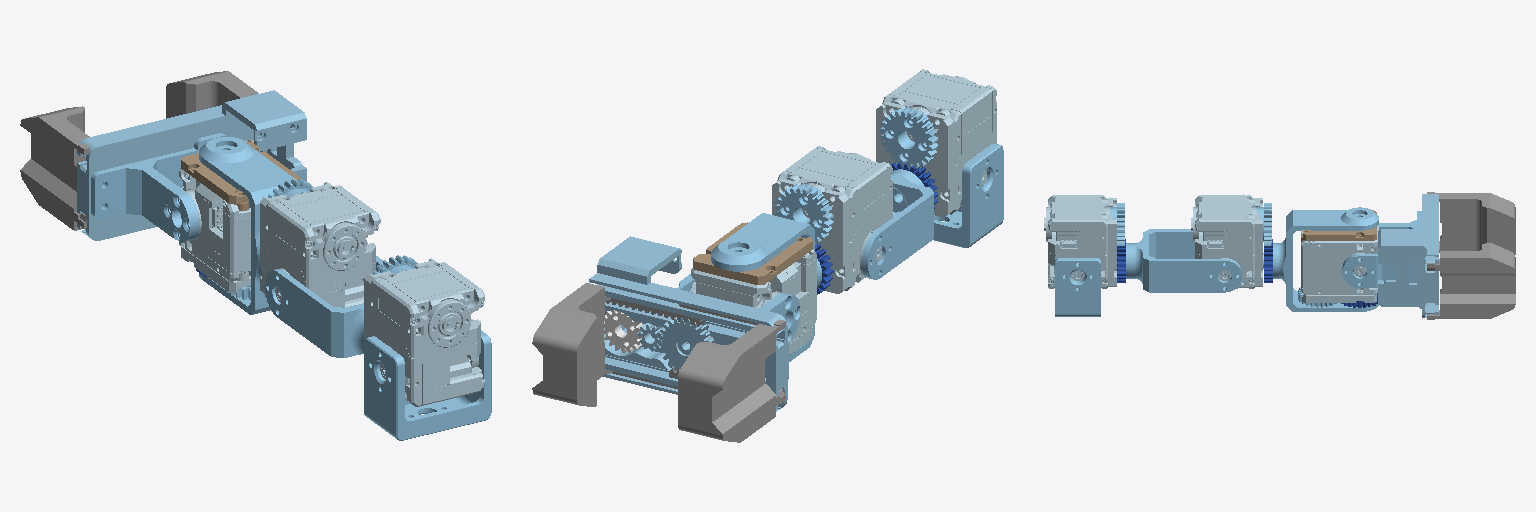
--- What the picture shows (computed from the rendered views, not written in the file) ---
3 views of the same robot in one strip: view 1: azimuth 30°, elevation 25°; view 2: azimuth 150°, elevation 25°; view 3: azimuth 270°, elevation 25° (orthographic).
Robot: right_arm_gripper — 19 links, 18 joints (10 revolute, 2 prismatic, 6 fixed); root link sho_pitch_link; default pose: every joint at zero.
Visible links, largest first — view 1: 2xl430_gears, 2xl430_gears_2, right_rail_guide, sho_pitch_link, gripper_connector, rail_2, 2xl430_gears_3, elb_yaw_link, sho_yaw_link, rail, wrist_bearing_plate; view 2: right_rail_guide, rail_2, 2xl430_gears_2, 2xl430_gears, rail, sho_yaw_link, sho_pitch_link, 2xl430_gears_3, elb_yaw_link, spur_1m_24t_drive, wrist_bearing_plate, spur_1m_24t_drive_2 (+2 smaller); view 3: rail, sho_yaw_link, 2xl430_gears_2, 2xl430_gears, right_rail_guide, rail_2, 2xl430_gears_3, elb_yaw_link, sho_pitch_link, gripper_connector, wrist_bearing_plate.
Boxes of the visible links, left/top/right/bottom form: 2xl430_gears: left=364, top=258, right=484, bottom=406; 2xl430_gears_2: left=260, top=182, right=380, bottom=307; right_rail_guide: left=77, top=90, right=306, bottom=240; sho_pitch_link: left=364, top=330, right=491, bottom=440; gripper_connector: left=91, top=133, right=226, bottom=242; rail_2: left=20, top=106, right=89, bottom=230; 2xl430_gears_3: left=179, top=168, right=250, bottom=293; elb_yaw_link: left=199, top=137, right=294, bottom=314; sho_yaw_link: left=265, top=256, right=383, bottom=357; rail: left=166, top=71, right=258, bottom=118; wrist_bearing_plate: left=181, top=142, right=300, bottom=210; right_rail_guide: left=589, top=236, right=787, bottom=411; rail_2: left=669, top=304, right=785, bottom=442; 2xl430_gears_2: left=772, top=146, right=892, bottom=293; 2xl430_gears: left=876, top=69, right=996, bottom=217; rail: left=532, top=283, right=704, bottom=406; sho_yaw_link: left=862, top=169, right=933, bottom=279; sho_pitch_link: left=933, top=143, right=1003, bottom=247; 2xl430_gears_3: left=690, top=249, right=816, bottom=354; elb_yaw_link: left=711, top=213, right=821, bottom=361; spur_1m_24t_drive: left=880, top=107, right=937, bottom=168; wrist_bearing_plate: left=693, top=222, right=812, bottom=284; spur_1m_24t_drive_2: left=775, top=184, right=833, bottom=242; rail: left=1427, top=243, right=1515, bottom=319; sho_yaw_link: left=1126, top=229, right=1241, bottom=292; 2xl430_gears_2: left=1191, top=195, right=1263, bottom=288; 2xl430_gears: left=1044, top=195, right=1116, bottom=288; right_rail_guide: left=1378, top=194, right=1438, bottom=317; rail_2: left=1427, top=192, right=1515, bottom=254; 2xl430_gears_3: left=1301, top=225, right=1378, bottom=302; elb_yaw_link: left=1273, top=207, right=1378, bottom=311; sho_pitch_link: left=1055, top=258, right=1100, bottom=316; gripper_connector: left=1342, top=211, right=1421, bottom=287; wrist_bearing_plate: left=1301, top=210, right=1376, bottom=241.
Bounding box of the posed robot: 0.0917 × 0.2811 × 0.0652 m (x, y, z).
18 mesh visuals loaded from 19 distinct referenced files (18 binary STL); not drawn: 1 (reference not matched to a file when rendering).

URDF robot description (right_arm_gripper):
<?xml version="1.0" ?><robot name="right_arm_gripper">  
  <link name="sho_pitch_link">    
    <visual>      
      <origin xyz="0 0 0" rpy="0 -0 0"/>      
      <geometry>        
        <mesh filename="package:///meshes/right_sho_pitch_link_visual.stl"/>        
      </geometry>      
      <material name="sho_pitch_link_material">        
        <color rgba="0.61568627450980395466 0.81176470588235294379 0.92941176470588227065 1.0"/>        
      </material>      
    </visual>    
    <collision>      
      <origin xyz="0 0 0" rpy="0 -0 0"/>      
      <geometry>        
        <mesh filename="package:///meshes/right_sho_pitch_link_collision.stl"/>        
      </geometry>      
    </collision>    
    <inertial>      
      <origin xyz="1.8449019812287260885e-18 -2.0802238039556934046e-18 0.012913250798677599132" rpy="0 0 0"/>      
      <mass value="0.0085999999999999982708"/>      
      <inertia ixx="1.8365636406635822849e-06" ixy="-6.8542962956938853498e-57" ixz="1.6528758011273076664e-97" iyy="4.0110869076839152165e-06" iyz="-2.646223959247617687e-46" izz="3.5160516450492493809e-06"/>      
    </inertial>    
  </link>  

  <link name="2xl430_gears">    
    <visual>      
      <origin xyz="0 0 0" rpy="0 -0 0"/>      
      <geometry>        
        <mesh filename="package:///meshes/right_2xl430_gears_visual.stl"/>        
      </geometry>      
      <material name="2xl430_gears_material">        
        <color rgba="0.7591476792056923717 0.85560384745670914342 0.90519468321360618823 1.0"/>        
      </material>      
    </visual>    
    <collision>      
      <origin xyz="0 0 0" rpy="0 -0 0"/>      
      <geometry>        
        <mesh filename="package:///meshes/right_2xl430_gears_collision.stl"/>        
      </geometry>      
    </collision>    
    <inertial>      
      <origin xyz="-0.01159290573797803689 -0.0024238553642550869638 -0.018551095523802667991" rpy="0 0 0"/>      
      <mass value="0.11800003674524908726"/>      
      <inertia ixx="2.7511021050424503716e-05" ixy="9.0043904315214347989e-07" ixz="-2.3349710124170355681e-08" iyy="3.2796197843345875145e-05" iyz="-6.5715119654636793758e-07" izz="3.5775739835741188688e-05"/>      
    </inertial>    
  </link>  

  <link name="spur_1m_24t_drive">    
    <visual>      
      <origin xyz="0 0 0" rpy="0 -0 0"/>      
      <geometry>        
        <mesh filename="package:///meshes/right_spur_1m_24t_drive_visual.stl"/>        
      </geometry>      
      <material name="spur_1m_24t_drive_material">        
        <color rgba="0.61568627450980406568 0.81176470588235294379 0.92941176470588238168 1.0"/>        
      </material>      
    </visual>    
    <collision>      
      <origin xyz="0 0 0" rpy="0 -0 0"/>      
      <geometry>        
        <mesh filename="package:///meshes/right_spur_1m_24t_drive_collision.stl"/>        
      </geometry>      
    </collision>    
    <inertial>      
      <origin xyz="3.0326539266682484979e-15 -3.3909557262182693158e-16 0.0048096451474092995898" rpy="0 0 0"/>      
      <mass value="0.0032000000000000001533"/>      
      <inertia ixx="1.4097598887016956026e-07" ixy="1.556282310200251252e-15" ixz="-1.8992294521396918766e-37" iyy="1.4097598803636001492e-07" iyz="-4.7745011531954772327e-37" izz="2.4107776386988835496e-07"/>      
    </inertial>    
  </link>  

  <joint name="right_sho_yaw_drive" type="revolute">    
    <origin xyz="-0.024000000716137347839 -0.019000000152448161261 -0.019000000152444761203" rpy="1.5707963267947397945 -3.199580565278813612e-14 1.8339090108977180652e-14"/>    
    <parent link="2xl430_gears"/>    
    <child link="spur_1m_24t_drive"/>    
    <axis xyz="0 0 1"/>    
    <limit effort="1" velocity="20" lower="-2.6179938779914944114" upper="2.6179938779914944114"/>    
    <joint_properties friction="0.0"/>    
  </joint>  

  <link name="spur_1m_24t_driven">    
    <visual>      
      <origin xyz="0 0 0" rpy="0 -0 0"/>      
      <geometry>        
        <mesh filename="package:///meshes/right_spur_1m_24t_driven_visual.stl"/>        
      </geometry>      
      <material name="spur_1m_24t_driven_material">        
        <color rgba="0.23137254901960788156 0.38039215686274502337 0.7058823529411765163 1.0"/>        
      </material>      
    </visual>    
    <collision>      
      <origin xyz="0 0 0" rpy="0 -0 0"/>      
      <geometry>        
        <mesh filename="package:///meshes/right_spur_1m_24t_driven_collision.stl"/>        
      </geometry>      
    </collision>    
    <inertial>      
      <origin xyz="-2.921394639790185015e-18 -1.6886349105605202767e-15 -0.00097237500038396460205" rpy="0 0 0"/>      
      <mass value="0.0026999999999999997093"/>      
      <inertia ixx="1.2202334915684083145e-07" ixy="-2.0003916890172096188e-37" ixz="1.9017102850262393928e-37" iyy="1.2202334915684064616e-07" iyz="-9.770592987438706564e-37" izz="2.3180293204341257533e-07"/>      
    </inertial>    
  </link>  

  <link name="sho_yaw_link">    
    <visual>      
      <origin xyz="0 0 0" rpy="0 -0 0"/>      
      <geometry>        
        <mesh filename="package:///meshes/right_sho_yaw_link_visual.stl"/>        
      </geometry>      
      <material name="sho_yaw_link_material">        
        <color rgba="0.61568627450980395466 0.81176470588235294379 0.92941176470588238168 1.0"/>        
      </material>      
    </visual>    
    <collision>      
      <origin xyz="0 0 0" rpy="0 -0 0"/>      
      <geometry>        
        <mesh filename="package:///meshes/right_sho_yaw_link_collision.stl"/>        
      </geometry>      
    </collision>    
    <inertial>      
      <origin xyz="4.5036404713680668847e-18 2.8819643225832177286e-18 -0.024649285094360068316" rpy="0 0 0"/>      
      <mass value="0.014500000000000004205"/>      
      <inertia ixx="9.2365904614004439553e-06" ixy="3.5862833440690446869e-13" ixz="3.8159565285815172758e-35" iyy="5.8163826335078791714e-06" iyz="-1.0924832696280288326e-35" izz="4.5074356741562113561e-06"/>      
    </inertial>    
  </link>  

  <link name="2xl430_gears_2">    
    <visual>      
      <origin xyz="0 0 0" rpy="0 -0 0"/>      
      <geometry>        
        <mesh filename="package:///meshes/right_2xl430_gears_2_visual.stl"/>        
      </geometry>      
      <material name="2xl430_gears_2_material">        
        <color rgba="0.7591476792056923717 0.85560384745670914342 0.90519468321360618823 1.0"/>        
      </material>      
    </visual>    
    <collision>      
      <origin xyz="0 0 0" rpy="0 -0 0"/>      
      <geometry>        
        <mesh filename="package:///meshes/right_2xl430_gears_2_collision.stl"/>        
      </geometry>      
    </collision>    
    <inertial>      
      <origin xyz="-0.011592905737986073864 -0.0024238553642542347809 -0.018551095523808777688" rpy="0 0 0"/>      
      <mass value="0.11800003674524908726"/>      
      <inertia ixx="2.7511021050428857465e-05" ixy="9.0043904315091549388e-07" ixz="-2.3349710123664839139e-08" iyy="3.2796197843347636974e-05" iyz="-6.5715119654794606584e-07" izz="3.5775739835744908856e-05"/>      
    </inertial>    
  </link>  

  <link name="spur_1m_24t_drive_2">    
    <visual>      
      <origin xyz="0 0 0" rpy="0 -0 0"/>      
      <geometry>        
        <mesh filename="package:///meshes/right_spur_1m_24t_drive_2_visual.stl"/>        
      </geometry>      
      <material name="spur_1m_24t_drive_2_material">        
        <color rgba="0.61568627450980406568 0.81176470588235294379 0.92941176470588238168 1.0"/>        
      </material>      
    </visual>    
    <collision>      
      <origin xyz="0 0 0" rpy="0 -0 0"/>      
      <geometry>        
        <mesh filename="package:///meshes/right_spur_1m_24t_drive_2_collision.stl"/>        
      </geometry>      
    </collision>    
    <inertial>      
      <origin xyz="3.0395928205721565152e-15 -3.3909557262182688227e-16 0.0048096451474092995898" rpy="0 0 0"/>      
      <mass value="0.0032000000000000001533"/>      
      <inertia ixx="1.4097598887016963967e-07" ixy="1.5562823101719447534e-15" ixz="-1.8419223123432015677e-37" iyy="1.4097598803636001492e-07" iyz="-3.0576269564019315824e-36" izz="2.4107776386988835496e-07"/>      
    </inertial>    
  </link>  

  <joint name="right_elbow_yaw_drive" type="revolute">    
    <origin xyz="-0.024000000716148717217 -0.019000000152453275226 -0.01900000015245205745" rpy="1.5707963267949269781 1.6254659840047312022e-13 -8.5511976043092269184e-14"/>    
    <parent link="2xl430_gears_2"/>    
    <child link="spur_1m_24t_drive_2"/>    
    <axis xyz="0 0 1"/>    
    <limit effort="1" velocity="20" lower="-2.6179938779914944114" upper="2.6179938779914944114"/>    
    <joint_properties friction="0.0"/>    
  </joint>  

  <link name="spur_1m_24t_driven_2">    
    <visual>      
      <origin xyz="0 0 0" rpy="0 -0 0"/>      
      <geometry>        
        <mesh filename="package:///meshes/right_spur_1m_24t_driven_2_visual.stl"/>        
      </geometry>      
      <material name="spur_1m_24t_driven_2_material">        
        <color rgba="0.23137254901960788156 0.38039215686274502337 0.7058823529411765163 1.0"/>        
      </material>      
    </visual>    
    <collision>      
      <origin xyz="0 0 0" rpy="0 -0 0"/>      
      <geometry>        
        <mesh filename="package:///meshes/right_spur_1m_24t_driven_2_collision.stl"/>        
      </geometry>      
    </collision>    
    <inertial>      
      <origin xyz="-2.9213946397908421423e-18 -1.6886349105605210655e-15 -0.00097237500038396460205" rpy="0 0 0"/>      
      <mass value="0.0026999999999999997093"/>      
      <inertia ixx="1.2202334915684083145e-07" ixy="8.1931871200334274295e-66" ixz="-5.8515286657488374315e-36" iyy="1.2202334915684064616e-07" iyz="-7.8749785833428115979e-37" izz="2.3180293204341268121e-07"/>      
    </inertial>    
  </link>  

  <link name="elb_yaw_link">    
    <visual>      
      <origin xyz="0 0 0" rpy="0 -0 0"/>      
      <geometry>        
        <mesh filename="package:///meshes/right_elb_yaw_link_visual.stl"/>        
      </geometry>      
      <material name="elb_yaw_link_material">        
        <color rgba="0.61568627450980395466 0.81176470588235294379 0.92941176470588227065 1.0"/>        
      </material>      
    </visual>    
    <collision>      
      <origin xyz="0 0 0" rpy="0 -0 0"/>      
      <geometry>        
        <mesh filename="package:///meshes/right_elb_yaw_link_collision.stl"/>        
      </geometry>      
    </collision>    
    <inertial>      
      <origin xyz="5.3127688027189133061e-08 0.0019833638641961665906 -0.023416643551549935071" rpy="0 0 0"/>      
      <mass value="0.017500000000000001665"/>      
      <inertia ixx="1.4134344903109196387e-05" ixy="1.6945783921929356084e-12" ixz="-1.1286398721892709078e-11" iyy="6.6435900776211340404e-06" iyz="1.0545227077253057579e-06" izz="8.9925290757998976773e-06"/>      
    </inertial>    
  </link>  

  <link name="spur_1m_24t_driven_3">    
    <visual>      
      <origin xyz="0 0 0" rpy="0 -0 0"/>      
      <geometry>        
        <mesh filename="package:///meshes/right_spur_1m_24t_driven_3_visual.stl"/>        
      </geometry>      
      <material name="spur_1m_24t_driven_3_material">        
        <color rgba="0.23137254901960788156 0.38039215686274502337 0.7058823529411765163 1.0"/>        
      </material>      
    </visual>    
    <collision>      
      <origin xyz="0 0 0" rpy="0 -0 0"/>      
      <geometry>        
        <mesh filename="package:///meshes/right_spur_1m_24t_driven_3_collision.stl"/>        
      </geometry>      
    </collision>    
    <inertial>      
      <origin xyz="-2.9213946397905324528e-18 -1.6886349105605188962e-15 -0.0025723750003839584988" rpy="0 0 0"/>      
      <mass value="0.0026999999999999997093"/>      
      <inertia ixx="1.2202334915684088439e-07" ixy="1.7934156310550399505e-36" ixz="-4.3202421904481218274e-36" iyy="1.2202334915684064616e-07" iyz="-9.0295837999359508427e-37" izz="2.3180293204341257533e-07"/>      
    </inertial>    
  </link>  

  <link name="2xl430_gears_3">    
    <visual>      
      <origin xyz="0 0 0" rpy="0 -0 0"/>      
      <geometry>        
        <mesh filename="package:///meshes/right_2xl430_gears_3_visual.stl"/>        
      </geometry>      
      <material name="2xl430_gears_3_material">        
        <color rgba="0.7591476792056923717 0.85560384745670914342 0.90519468321360618823 1.0"/>        
      </material>      
    </visual>    
    <collision>      
      <origin xyz="0 0 0" rpy="0 -0 0"/>      
      <geometry>        
        <mesh filename="package:///meshes/right_2xl430_gears_3_collision.stl"/>        
      </geometry>      
    </collision>    
    <inertial>      
      <origin xyz="0.00044890447619846317274 0.011592905379916402728 -0.024576144788201300523" rpy="0 0 0"/>      
      <mass value="0.11800003674524908726"/>      
      <inertia ixx="3.5775739835743350316e-05" ixy="2.334971012439249338e-08" ixz="6.5715119654781382282e-07" iyy="2.7511021050426370577e-05" iyz="9.004390431514573832e-07" izz="3.279619784334753533e-05"/>      
    </inertial>    
  </link>  

  <link name="spur_1m_24t_drive_3">    
    <visual>      
      <origin xyz="0 0 0" rpy="0 -0 0"/>      
      <geometry>        
        <mesh filename="package:///meshes/right_spur_1m_24t_drive_3_visual.stl"/>        
      </geometry>      
      <material name="spur_1m_24t_drive_3_material">        
        <color rgba="0.61568627450980406568 0.81176470588235294379 0.92941176470588238168 1.0"/>        
      </material>      
    </visual>    
    <collision>      
      <origin xyz="0 0 0" rpy="0 -0 0"/>      
      <geometry>        
        <mesh filename="package:///meshes/right_spur_1m_24t_drive_3_collision.stl"/>        
      </geometry>      
    </collision>    
    <inertial>      
      <origin xyz="3.0326539266682488924e-15 -3.3909557259597738952e-16 0.0048096451474093021919" rpy="0 0 0"/>      
      <mass value="0.0032000000000000001533"/>      
      <inertia ixx="1.409759888701696132e-07" ixy="1.556282310200251252e-15" ixz="-1.0651936719748417848e-37" iyy="1.4097598803636001492e-07" iyz="-6.7795798897996087278e-37" izz="2.4107776386988846083e-07"/>      
    </inertial>    
  </link>  

  <joint name="right_wrist_pitch_drive" type="revolute">    
    <origin xyz="-1.5244632210886674996e-10 0.024000000358075396223 -0.0080000000000023368391" rpy="1.8404832493348406963e-14 1.1899813043699589138e-13 -1.5707963267947944175"/>    
    <parent link="2xl430_gears_3"/>    
    <child link="spur_1m_24t_drive_3"/>    
    <axis xyz="0 0 1"/>    
    <limit effort="1" velocity="20" lower="-1.3962634015954635824" upper="1.9198621771937625091"/>    
    <joint_properties friction="0.0"/>    
  </joint>  

  <link name="gripper_connector">    
    <visual>      
      <origin xyz="0 0 0" rpy="0 -0 0"/>      
      <geometry>        
        <mesh filename="package:///meshes/right_gripper_connector_visual.stl"/>        
      </geometry>      
      <material name="gripper_connector_material">        
        <color rgba="0.61568627450980395466 0.81176470588235294379 0.92941176470588238168 1.0"/>        
      </material>      
    </visual>    
    <collision>      
      <origin xyz="0 0 0" rpy="0 -0 0"/>      
      <geometry>        
        <mesh filename="package:///meshes/right_gripper_connector_collision.stl"/>        
      </geometry>      
    </collision>    
    <inertial>      
      <origin xyz="-0.00018842170188954562057 0.022508162473387258173 -0.027103952522535709746" rpy="0 0 0"/>      
      <mass value="0.0099999999999999967387"/>      
      <inertia ixx="5.9456375734536726584e-06" ixy="2.4479055491886681531e-08" ixz="4.0329437936864279052e-08" iyy="4.2603724874314054683e-06" iyz="4.585261274976229064e-07" izz="2.4669632528047159756e-06"/>      
    </inertial>    
  </link>  

  <link name="right_rail_guide">    
    <visual>      
      <origin xyz="0 0 0" rpy="0 -0 0"/>      
      <geometry>        
        <mesh filename="package:///meshes/right_rail_guide_visual.stl"/>        
      </geometry>      
      <material name="right_rail_guide_material">        
        <color rgba="0.63183631947442864263 0.80464761899488657093 0.89969354135356638391 1.0"/>        
      </material>      
    </visual>    
    <collision>      
      <origin xyz="0 0 0" rpy="0 -0 0"/>      
      <geometry>        
        <mesh filename="package:///meshes/right_rail_guide_collision.stl"/>        
      </geometry>      
    </collision>    
    <inertial>      
      <origin xyz="0.010819769137967562636 -0.0021113011985218615996 -7.7620928513509046e-05" rpy="0 0 0"/>      
      <mass value="0.031084136786219594695"/>      
      <inertia ixx="7.8430666236070228507e-06" ixy="-2.0644517679574144074e-06" ixz="4.0045882799668568733e-06" iyy="2.7294704119451736191e-05" iyz="8.8949075530050562942e-07" izz="3.0492488744516627947e-05"/>      
    </inertial>    
  </link>  

  <link name="rail">    
    <visual>      
      <origin xyz="0 0 0" rpy="0 -0 0"/>      
      <geometry>        
        <mesh filename="package:///meshes/right_rail_visual.stl"/>        
      </geometry>      
      <material name="rail_material">        
        <color rgba="0.64705882352941179736 0.64705882352941179736 0.64705882352941179736 1.0"/>        
      </material>      
    </visual>    
    <collision>      
      <origin xyz="0 0 0" rpy="0 -0 0"/>      
      <geometry>        
        <mesh filename="package:///meshes/right_rail_collision.stl"/>        
      </geometry>      
    </collision>    
    <inertial>      
      <origin xyz="0.029554714214719168819 -0.015933051259988690457 -0.010638774525132295434" rpy="0 0 0"/>      
      <mass value="0.017100000000000004086"/>      
      <inertia ixx="3.6591938331681682466e-06" ixy="2.101313841244636705e-08" ixz="-1.1335092663308559672e-07" iyy="4.7380338190523213965e-06" iyz="3.1225833654311399591e-08" izz="6.0956112819844626417e-06"/>      
    </inertial>    
  </link>  

  <joint name="right_gripper_pinion" type="prismatic">    
    <origin xyz="-0.028872600000000046838 -0.01597499999999998227 -0.0053500000000018255175" rpy="-3.141592653589793116 1.570796326794896336 0"/>    
    <parent link="right_rail_guide"/>    
    <child link="rail"/>    
    <axis xyz="0 0 1"/>    
    <limit effort="1" velocity="20" lower="-0.025000000000000001388" upper="0"/>    
    <joint_properties friction="0.0"/>    
  </joint>  

  <link name="rail_2">    
    <visual>      
      <origin xyz="0 0 0" rpy="0 -0 0"/>      
      <geometry>        
        <mesh filename="package:///meshes/right_rail_2_visual.stl"/>        
      </geometry>      
      <material name="rail_2_material">        
        <color rgba="0.64705882352941179736 0.64705882352941179736 0.64705882352941179736 1.0"/>        
      </material>      
    </visual>    
    <collision>      
      <origin xyz="0 0 0" rpy="0 -0 0"/>      
      <geometry>        
        <mesh filename="package:///meshes/right_rail_2_collision.stl"/>        
      </geometry>      
    </collision>    
    <inertial>      
      <origin xyz="0.029554714214719151472 -0.015933051259988690457 -0.010638774525132281557" rpy="0 0 0"/>      
      <mass value="0.017100000000000004086"/>      
      <inertia ixx="3.6591938331681699406e-06" ixy="2.1013138412446370359e-08" ixz="-1.1335092663308562319e-07" iyy="4.7380338190523213965e-06" iyz="3.1225833654311399591e-08" izz="6.0956112819844626417e-06"/>      
    </inertial>    
  </link>  

  <joint name="right_gripper_pinion_mirror" type="prismatic">    
    <origin xyz="0.062872600000000000708 0.015974999999999996148 -0.0053500000000018255175" rpy="-5.5077470362028772728e-17 1.570796326794896336 0"/>    
    <parent link="right_rail_guide"/>    
    <child link="rail_2"/>    
    <axis xyz="0 0 1"/>    
    <limit effort="1" velocity="20" lower="-0.025000000000000001388" upper="0"/>    
    <joint_properties friction="0.0"/>    
  </joint>  

  <link name="xc330">    
    <visual>      
      <origin xyz="0 0 0" rpy="0 -0 0"/>      
      <geometry>        
        <mesh filename="package:///meshes/right_xc330_visual.stl"/>        
      </geometry>      
      <material name="xc330_material">        
        <color rgba="0.66932535752643762539 0.72911795671409951325 0.67547870389434383487 1.0"/>        
      </material>      
    </visual>    
    <collision>      
      <origin xyz="0 0 0" rpy="0 -0 0"/>      
      <geometry>        
        <mesh filename="package:///meshes/right_xc330_collision.stl"/>        
      </geometry>      
    </collision>    
    <inertial>      
      <origin xyz="0.0080045171539636656571 -0.015558009851632038575 -0.011717805512818681157" rpy="0 0 0"/>      
      <mass value="0.026599999993091757305"/>      
      <inertia ixx="3.8683410666514873223e-06" ixy="-7.7688424001884118559e-10" ixz="5.7969695832743633125e-10" iyy="2.1626767907495288038e-06" iyz="8.3590274792655130141e-09" izz="3.3158761130056373734e-06"/>      
    </inertial>    
  </link>  

  <link name="spur_gear_(18_teeth)">    
    <visual>      
      <origin xyz="0 0 0" rpy="0 -0 0"/>      
      <geometry>        
        <mesh filename="package:///meshes/right_spur_gear_(18_teeth)_visual.stl"/>        
      </geometry>      
      <material name="spur_gear_(18_teeth)_material">        
        <color rgba="0.91764705882352926025 0.91764705882352926025 0.91764705882352926025 1.0"/>        
      </material>      
    </visual>    
    <collision>      
      <origin xyz="0 0 0" rpy="0 -0 0"/>      
      <geometry>        
        <mesh filename="package:///meshes/right_spur_gear_(18_teeth)_collision.stl"/>        
      </geometry>      
    </collision>    
    <inertial>      
      <origin xyz="5.5511151231257827021e-17 -3.1225022567582527699e-17 -0.0025000000000000074246" rpy="0 0 0"/>      
      <mass value="0.0012999999999999999403"/>      
      <inertia ixx="3.3282842836137718203e-08" ixy="-1.5837813884372199342e-22" ixz="-2.8752104509266030915e-38" iyy="3.3282842836137453506e-08" iyz="-1.0904371075711416333e-36" izz="6.1149428795799489038e-08"/>      
    </inertial>    
  </link>  

  <joint name="right_gripper_rack" type="revolute">    
    <origin xyz="0.0079999999999993201549 -0.022499999999995502764 -0.026000000000000439426" rpy="7.3432579397082090565e-14 3.5141900076851877937e-14 -3.1415926535897820138"/>    
    <parent link="xc330"/>    
    <child link="spur_gear_(18_teeth)"/>    
    <axis xyz="0 0 1"/>    
    <limit effort="1" velocity="20" lower="0" upper="2.7052603405912107881"/>    
    <joint_properties friction="0.0"/>    
  </joint>  

  <joint name="right_gripper_motor" type="fixed">    
    <origin xyz="-0.0059500000000000073663 -0.022600000000000008971 0.023299999999999987388" rpy="3.6776137690705712091e-16 1.2671612890944486003e-16 3.141592653589793116"/>    
    <parent link="right_rail_guide"/>    
    <child link="xc330"/>    
    <axis xyz="0 0 1"/>    
    <limit effort="1" velocity="20"/>    
    <joint_properties friction="0.0"/>    
  </joint>  

  <joint name="right_gripper_fixed" type="fixed">    
    <origin xyz="0 0.037000000000000005107 -0.0019999999999999983069" rpy="1.5707963267948970021 1.570796326794896558 0"/>    
    <parent link="gripper_connector"/>    
    <child link="right_rail_guide"/>    
    <axis xyz="0 0 1"/>    
    <limit effort="1" velocity="20"/>    
    <joint_properties friction="0.0"/>    
  </joint>  

  <joint name="right_wrist_roll" type="revolute">    
    <origin xyz="0.019000000000004482054 -3.580631624533481272e-10 -0.027000000152456495039" rpy="-3.141592653589758477 -1.5707963267948275021 0"/>    
    <parent link="2xl430_gears_3"/>    
    <child link="gripper_connector"/>    
    <axis xyz="0 0 1"/>    
    <limit effort="1" velocity="20" lower="-1.3962634015954635824" upper="1.9198621771937625091"/>    
    <joint_properties friction="0.0"/>    
  </joint>  

  <link name="wrist_bearing_plate">    
    <visual>      
      <origin xyz="0 0 0" rpy="0 -0 0"/>      
      <geometry>        
        <mesh filename="package:///meshes/right_wrist_bearing_plate_visual.stl"/>        
      </geometry>      
      <material name="wrist_bearing_plate_material">        
        <color rgba="0.71932243125689065977 0.63128434304969727187 0.52422389360984933404 1.0"/>        
      </material>      
    </visual>    
    <collision>      
      <origin xyz="0 0 0" rpy="0 -0 0"/>      
      <geometry>        
        <mesh filename="package:///meshes/right_wrist_bearing_plate_collision.stl"/>        
      </geometry>      
    </collision>    
    <inertial>      
      <origin xyz="-0.0075835583121500052886 -0.015499999999999980807 -0.0018386323705903270722" rpy="0 0 0"/>      
      <mass value="0.0049000367468305548388"/>      
      <inertia ixx="4.9707430109150107956e-07" ixy="8.1070294502442220436e-23" ixz="1.8100904820814048483e-08" iyy="7.1268523603538595411e-07" iyz="1.2144016459131329602e-23" izz="1.1919657811600109234e-06"/>      
    </inertial>    
  </link>  

  <joint name="right_wrist_pitch_fixed" type="fixed">    
    <origin xyz="0.015500000000004740888 1.2045919817182948464e-14 -0.045000000000007915613" rpy="3.9795857581529944641e-14 1.8629542353210303453e-13 -1.5707963267947884223"/>    
    <parent link="2xl430_gears_3"/>    
    <child link="wrist_bearing_plate"/>    
    <axis xyz="0 0 1"/>    
    <limit effort="1" velocity="20"/>    
    <joint_properties friction="0.0"/>    
  </joint>  

  <joint name="right_wrist_pitch_driven" type="revolute">    
    <origin xyz="0 2.5637979419682883676e-30 -0.0015999999999999950893" rpy="1.5612511284236928353e-16 1.0061396160670370853e-16 1.570796326794896336"/>    
    <parent link="spur_1m_24t_driven_3"/>    
    <child link="2xl430_gears_3"/>    
    <axis xyz="0 0 1"/>    
    <limit effort="1" velocity="20" lower="-1.9198621771937625091" upper="1.3962634015954635824"/>    
    <joint_properties friction="0.0"/>    
  </joint>  

  <joint name="right_wrist_roll_fixed" type="fixed">    
    <origin xyz="-9.8607613152626475676e-31 -0.025300000000000003042 -0.051999999999999990674" rpy="1.570796326794896558 1.570796326794896558 0"/>    
    <parent link="elb_yaw_link"/>    
    <child link="spur_1m_24t_driven_3"/>    
    <axis xyz="0 0 1"/>    
    <limit effort="1" velocity="20"/>    
    <joint_properties friction="0.0"/>    
  </joint>  

  <joint name="right_elbow_yaw_fixed" type="fixed">    
    <origin xyz="0 -5.9164567891575885406e-31 0.0016000000000000041966" rpy="3.141592653589793116 -1.6415575270060996837e-29 -1.570796326794896558"/>    
    <parent link="spur_1m_24t_driven_2"/>    
    <child link="elb_yaw_link"/>    
    <axis xyz="0 0 1"/>    
    <limit effort="1" velocity="20"/>    
    <joint_properties friction="0.0"/>    
  </joint>  

  <joint name="right_elbow_yaw_driven" type="revolute">    
    <origin xyz="-3.5807057666148445207e-10 -0.027000000152458056291 -0.019000000000001949357" rpy="1.5707963267949378583 3.9690473130355310109e-14 -5.221292488511941966e-14"/>    
    <parent link="2xl430_gears_2"/>    
    <child link="spur_1m_24t_driven_2"/>    
    <axis xyz="0 0 1"/>    
    <limit effort="1" velocity="20" lower="-2.6179938779914944114" upper="2.6179938779914944114"/>    
    <joint_properties friction="0.0"/>    
  </joint>  

  <joint name="right_elbow_roll" type="revolute">    
    <origin xyz="6.9388939039072283776e-18 -0.018999999999999992589 -0.058999999999999983014" rpy="1.570796326794896558 1.8613243021562443989e-16 2.7317207594485797632e-14"/>    
    <parent link="sho_yaw_link"/>    
    <child link="2xl430_gears_2"/>    
    <axis xyz="0 0 1"/>    
    <limit effort="1" velocity="20" lower="-1.9198621771937625091" upper="2.4434609527920612138"/>    
    <joint_properties friction="0.0"/>    
  </joint>  

  <joint name="right_sho_yaw_fixed" type="fixed">    
    <origin xyz="0 1.9721522630525295135e-31 0.0016000000000000007272" rpy="-3.141592653589793116 6.0982645760524304742e-30 -1.2655675810200602945e-30"/>    
    <parent link="spur_1m_24t_driven"/>    
    <child link="sho_yaw_link"/>    
    <axis xyz="0 0 1"/>    
    <limit effort="1" velocity="20"/>    
    <joint_properties friction="0.0"/>    
  </joint>  

  <joint name="right_sho_yaw_driven" type="revolute">    
    <origin xyz="-3.5806868581289563735e-10 -0.027000000152448175306 -0.018999999999998452155" rpy="1.5707963267947739894 -2.7015357376462180631e-14 4.23468517903597816e-14"/>    
    <parent link="2xl430_gears"/>    
    <child link="spur_1m_24t_driven"/>    
    <axis xyz="0 0 1"/>    
    <limit effort="1" velocity="20" lower="-2.6179938779914944114" upper="2.6179938779914944114"/>    
    <joint_properties friction="0.0"/>    
  </joint>  

  <joint name="right_sho_roll" type="revolute">    
    <origin xyz="-0.018999999999999999528 9.324138683375341214e-18 0.027000000000000006634" rpy="-3.141592653589793116 1.5707963267947613328 0"/>    
    <parent link="sho_pitch_link"/>    
    <child link="2xl430_gears"/>    
    <axis xyz="0 0 1"/>    
    <limit effort="1" velocity="20" lower="-1.570796326794896558" upper="0.34906585039886589561"/>    
    <joint_properties friction="0.0"/>    
  </joint>  


</robot>
